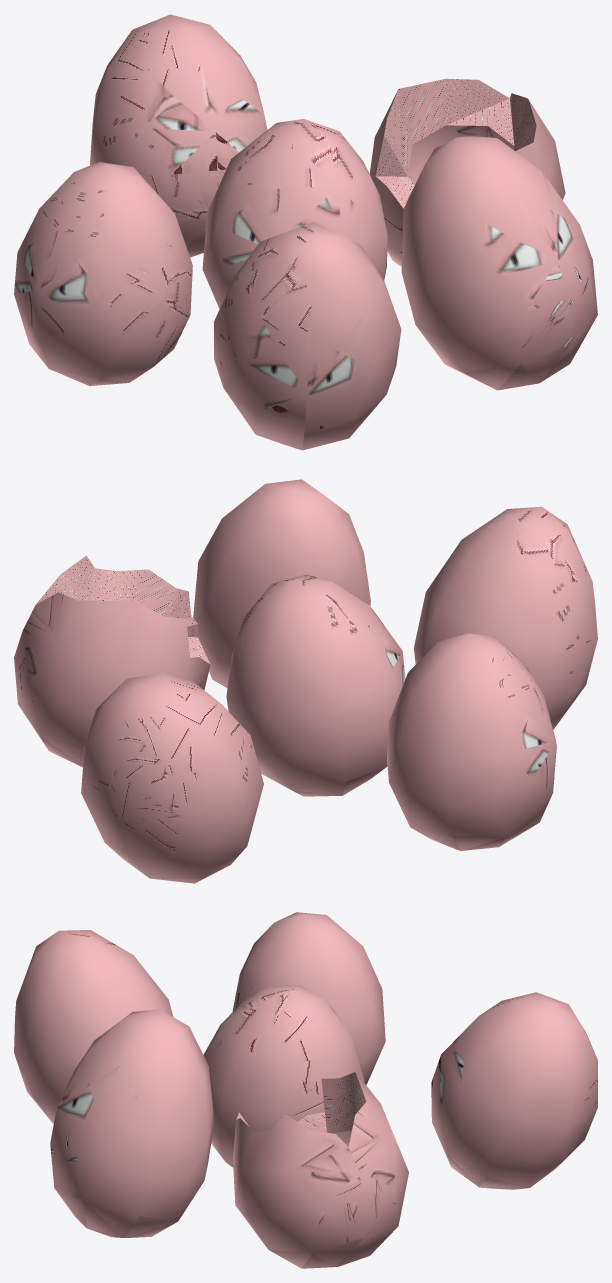
Rendered from exeggcute.glb.
The picture shows the model from 3 angles, top to bottom: view 1: azimuth 30°, elevation 25°; view 2: azimuth 150°, elevation 25°; view 3: azimuth 270°, elevation 25°; orthographic projection. The views are drawn at different scales.
Visible parts, largest first — view 1: tamatama.1; view 2: tamatama.1; view 3: tamatama.1.
Boxes of the visible parts, x1,y1,x2,y2 form: tamatama.1: (14,14,597,450); tamatama.1: (14,479,597,883); tamatama.1: (14,912,597,1268).
Size of the model in its own units: 9.49 by 4.08 by 10.31.
Materials: 16 (16 with a texture image).
